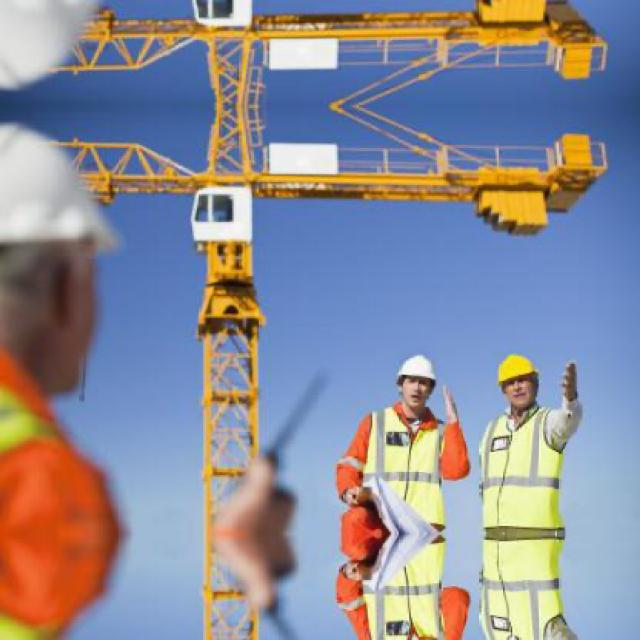helmet: (3, 119, 120, 412), (2, 0, 120, 96), (494, 347, 543, 412), (395, 350, 440, 410)
